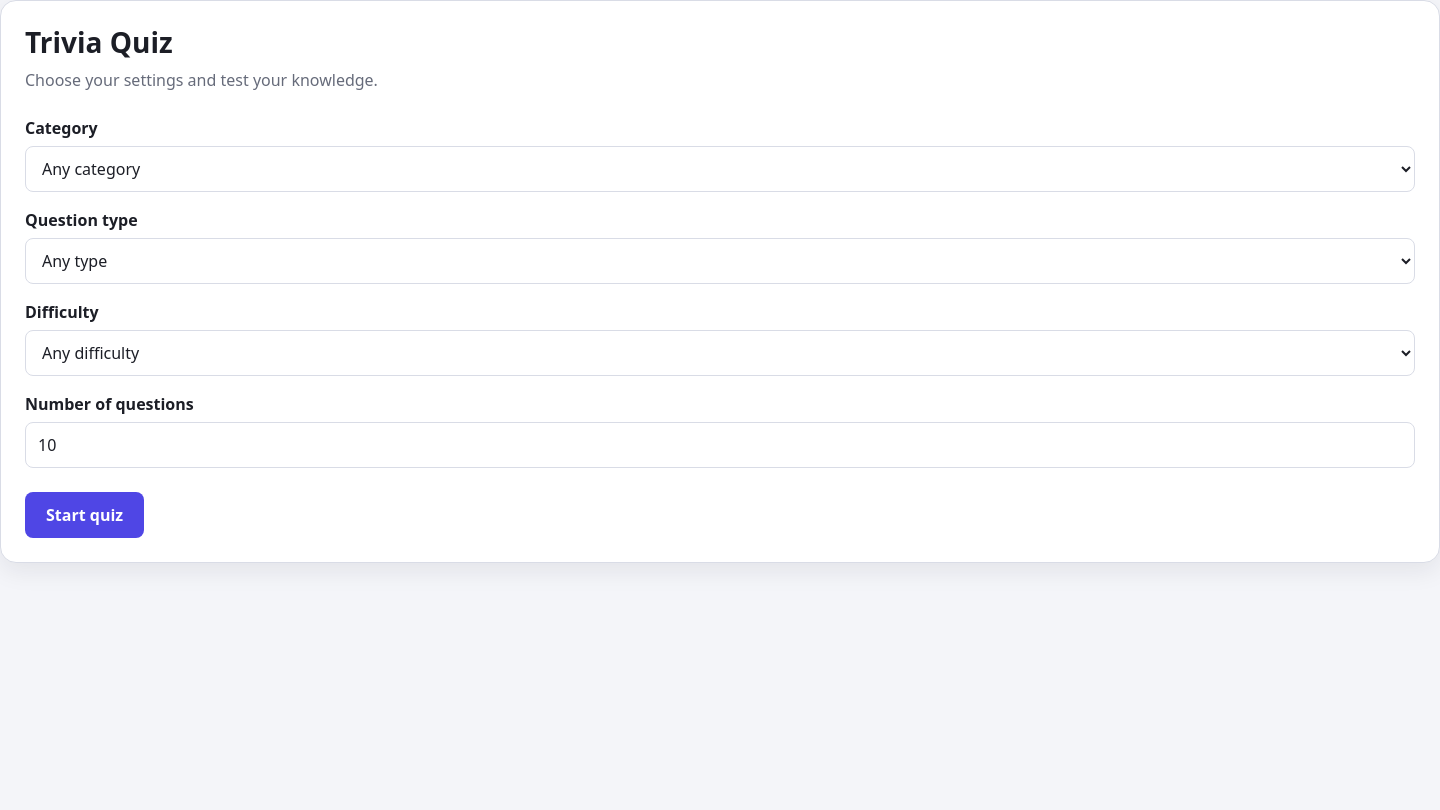
App › plays a whole game and shows the result
Click the button "Start quiz": (85, 515) [25, 492, 144, 538]
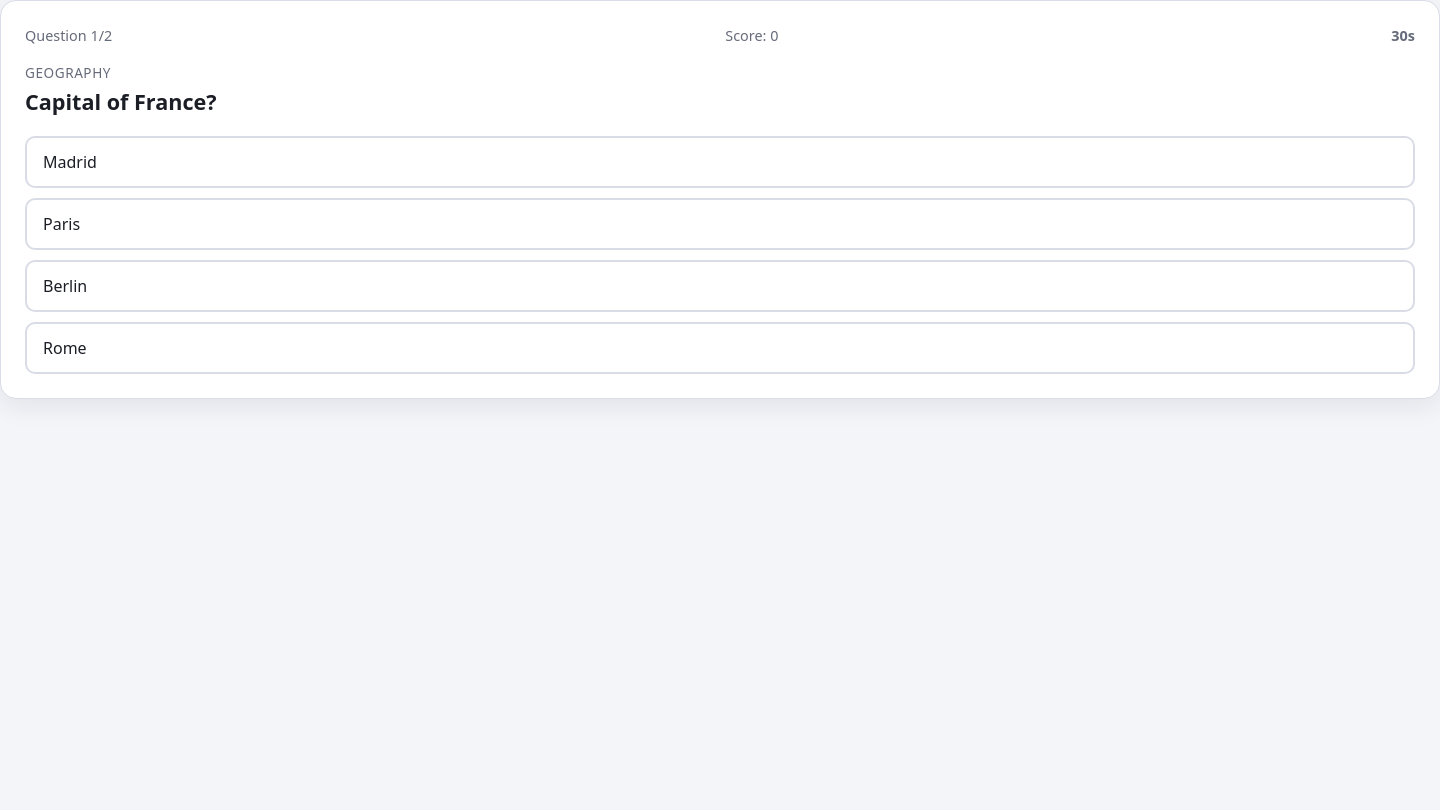
Expected: the heading "Capital of France?" is shown, [25, 87, 217, 116]
Expected: the text "Question 1/2" is shown, [25, 25, 112, 47]
Click the button "Paris": (62, 224) [25, 198, 1415, 250]
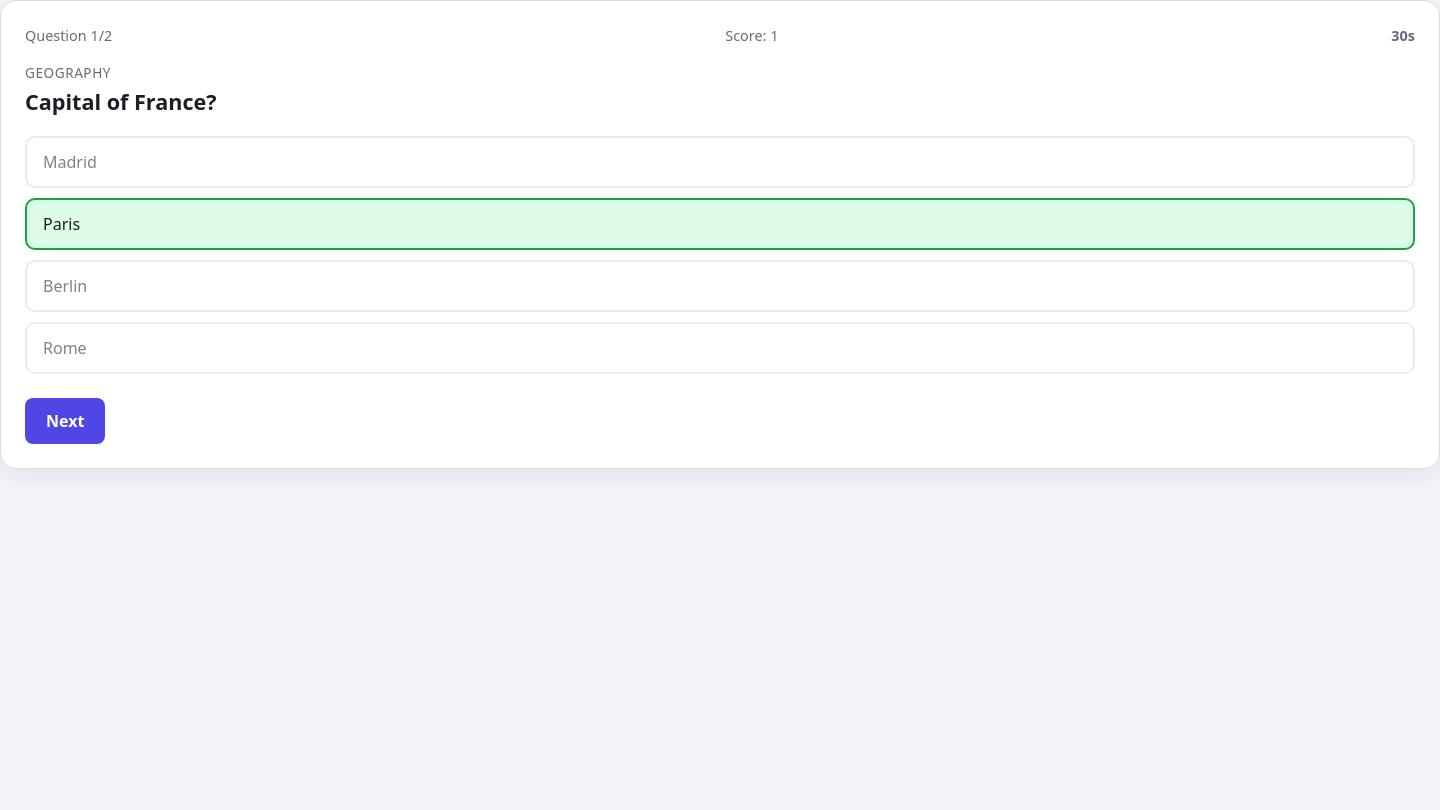
Expected: the text "Score: 1" is shown, [725, 25, 778, 47]
Click the button "Next": (65, 421) [25, 398, 105, 444]
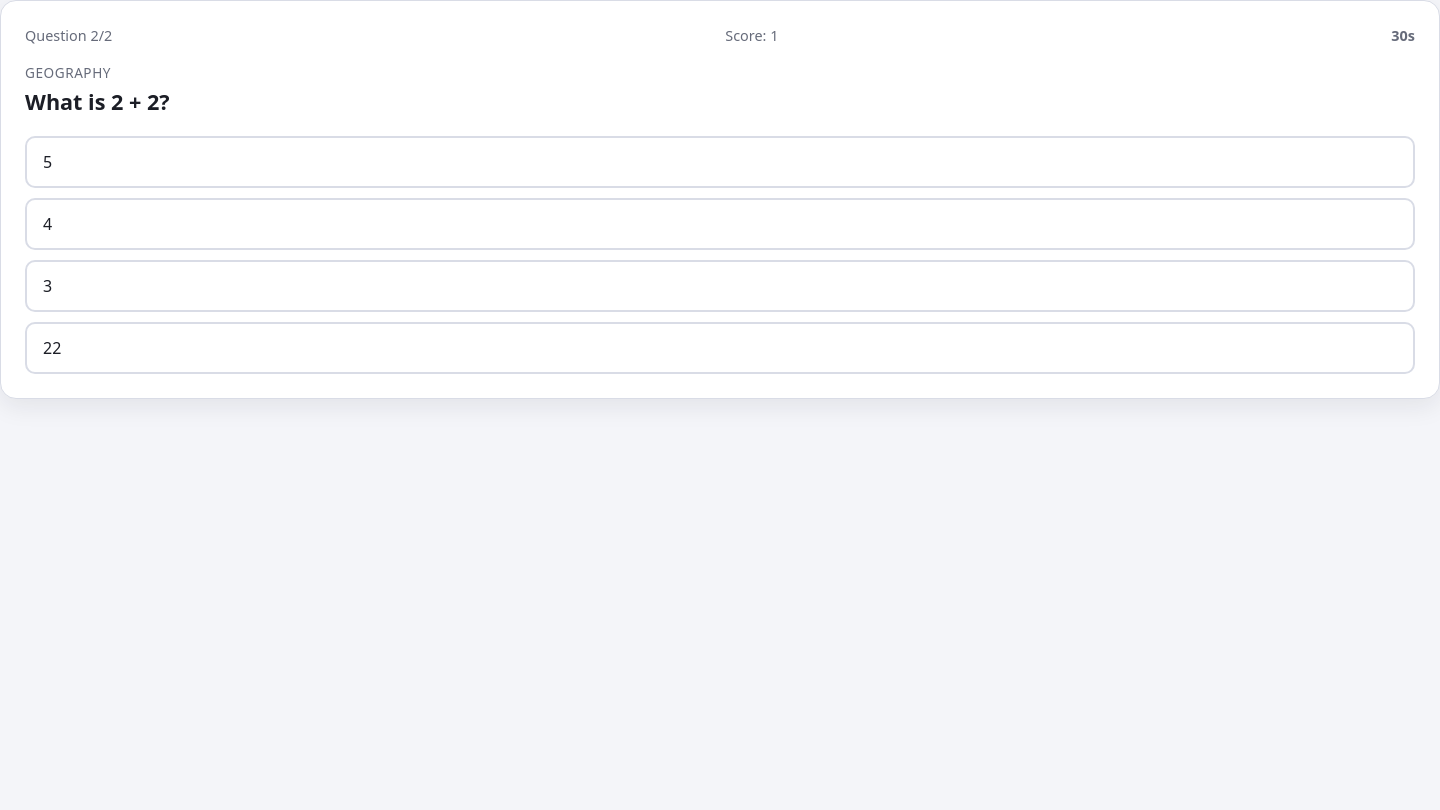
Expected: the heading "What is 2 + 2?" is shown, [25, 87, 170, 116]
Expected: the text "Question 2/2" is shown, [25, 25, 112, 47]
Click the button "3": (48, 286) [25, 260, 1415, 312]
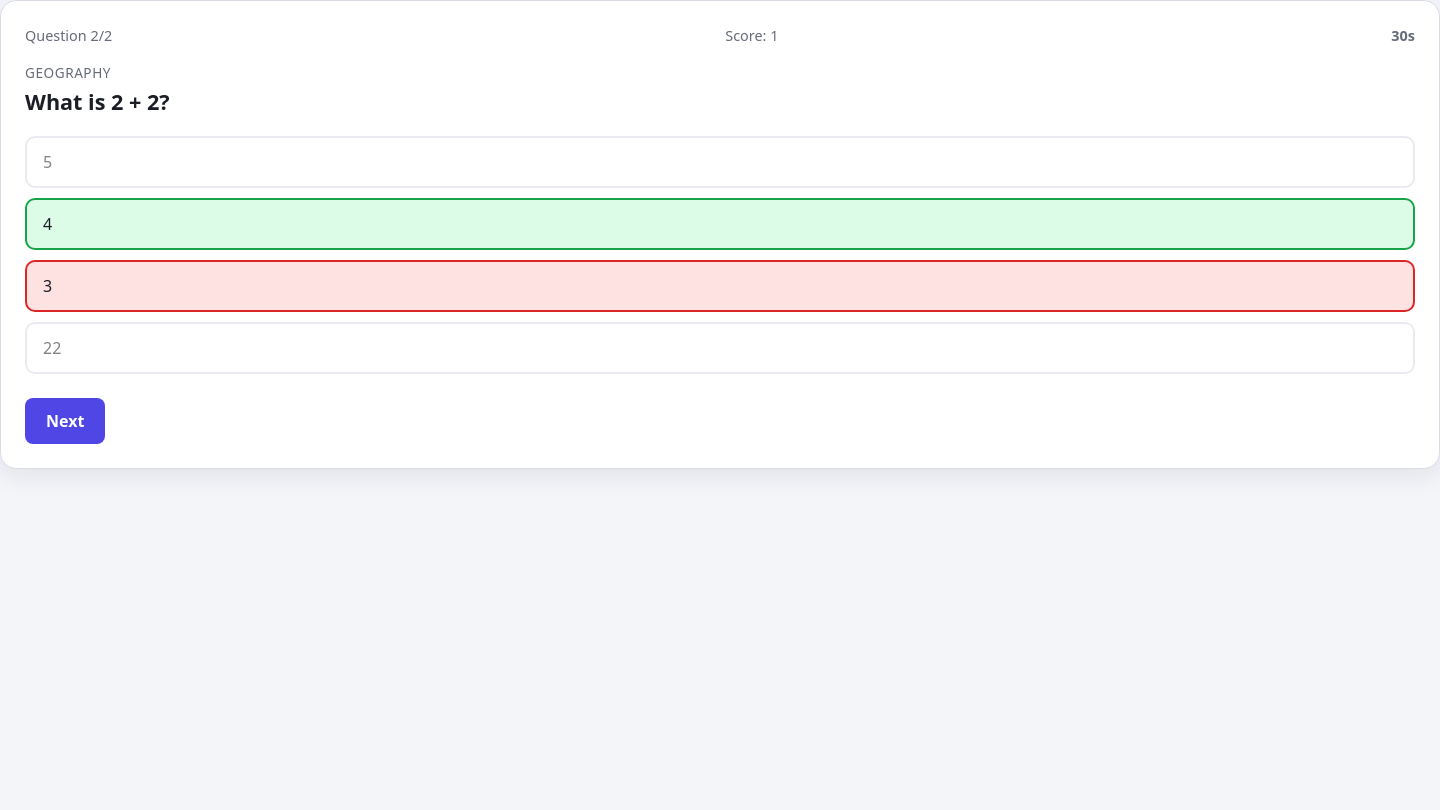
Expected: the text "Score: 1" is shown, [725, 25, 778, 47]
Click the button "Next": (65, 421) [25, 398, 105, 444]
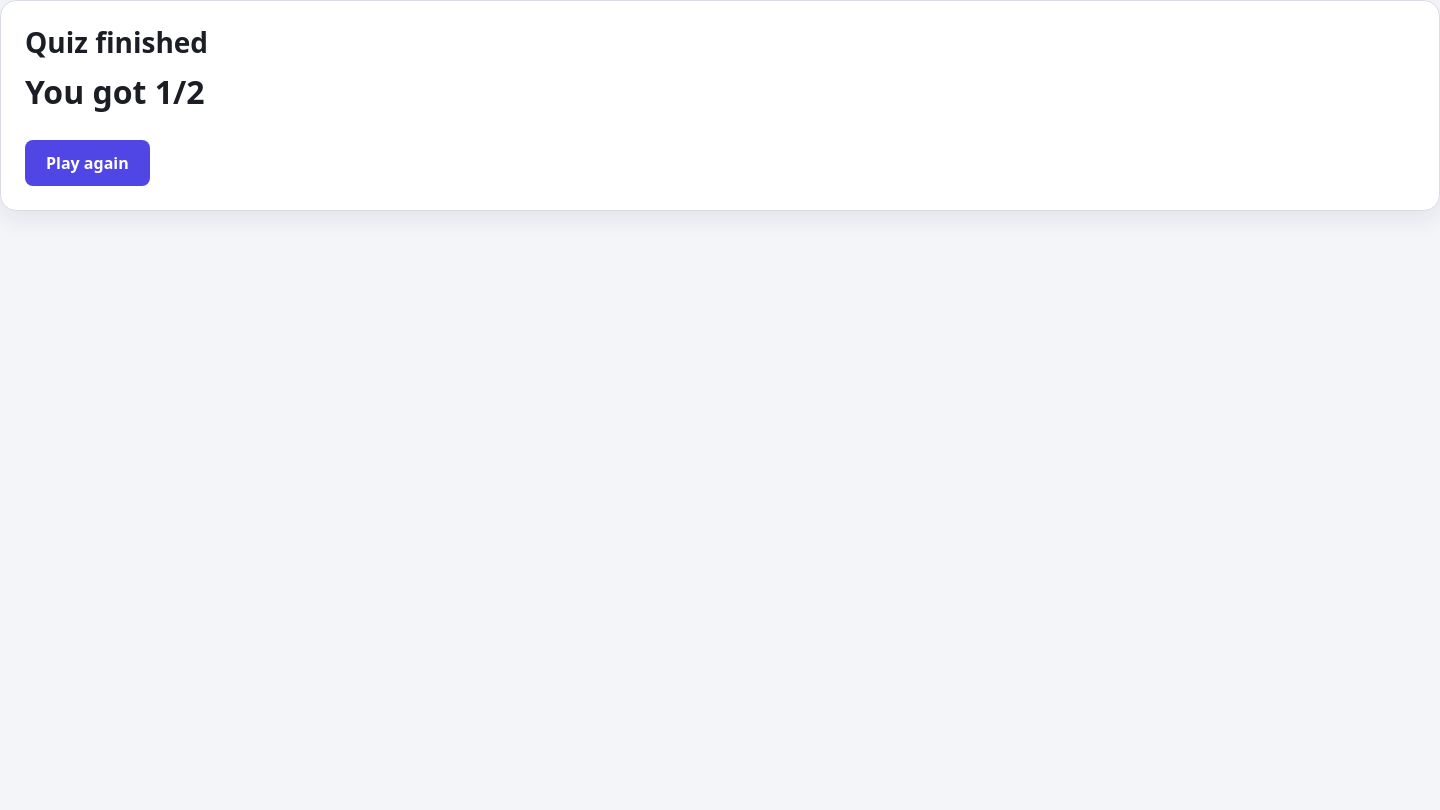
Expected: the heading "Quiz finished" is shown, [25, 23, 208, 61]
Expected: the text "You got 1/2" is shown, [25, 70, 205, 113]
